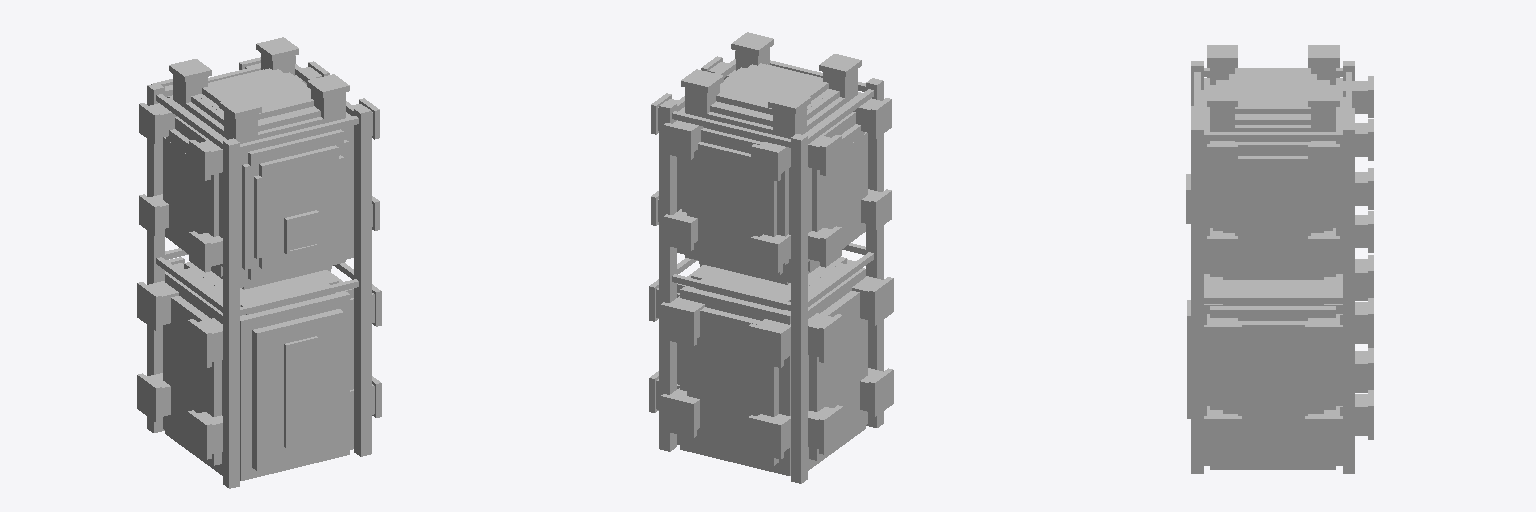
Rendered from steamtank_medium.obj.
3 renders of one model, left to right at view 1: azimuth 30°, elevation 25°; view 2: azimuth 150°, elevation 25°; view 3: azimuth 270°, elevation 25°, orthographic.
Parts seen in each view (by area): view 1: waterTank0, steamTank0, armature1, armature0, waterTank1, waterTank2, steamTank3, steamTank9, armature3, jauge5, steamTank4, steamTank7 (+28 smaller); view 2: waterTank0, steamTank0, armature3, waterTank1, armature2, steamTank3, waterTank2, steamTank9, armature0, waterTank5, steamTank8, steamTank4 (+28 smaller); view 3: waterTank1, steamTank3, armature1, armature2, waterTank3, steamTank9, steamTank7, waterTank5, steamTank5, steamTank2, waterRightWestTop1, waterLeftWestTop1 (+23 smaller).
Part boxes in pixels (bbox=[...]): waterTank0: bbox=[252, 309, 343, 470]; steamTank0: bbox=[259, 145, 338, 268]; armature1: bbox=[354, 106, 371, 456]; armature0: bbox=[223, 138, 239, 488]; waterTank1: bbox=[163, 296, 221, 465]; waterTank2: bbox=[175, 264, 349, 480]; steamTank3: bbox=[163, 137, 218, 236]; steamTank9: bbox=[202, 68, 313, 289]; armature3: bbox=[147, 83, 164, 432]; jauge5: bbox=[288, 340, 316, 445]; steamTank4: bbox=[248, 129, 343, 279]; steamTank7: bbox=[165, 97, 353, 284]; waterTank0: bbox=[687, 307, 778, 465]; steamTank0: bbox=[692, 142, 768, 259]; armature3: bbox=[791, 134, 807, 483]; waterTank1: bbox=[809, 291, 867, 460]; armature2: bbox=[659, 101, 676, 451]; steamTank3: bbox=[812, 132, 867, 231]; waterTank2: bbox=[680, 259, 855, 475]; steamTank9: bbox=[716, 63, 828, 284]; armature0: bbox=[866, 78, 883, 427]; waterTank5: bbox=[696, 257, 846, 309]; steamTank8: bbox=[685, 89, 857, 282]; steamTank4: bbox=[687, 128, 782, 274]; waterTank1: bbox=[1223, 321, 1323, 461]; steamTank3: bbox=[1223, 170, 1323, 250]; armature1: bbox=[1191, 125, 1203, 473]; armature2: bbox=[1343, 125, 1354, 473]; waterTank3: bbox=[1210, 306, 1335, 469]; steamTank9: bbox=[1229, 71, 1316, 113]; steamTank7: bbox=[1204, 78, 1342, 273]; waterTank5: bbox=[1210, 277, 1335, 294]; steamTank5: bbox=[1220, 142, 1326, 270]; steamTank2: bbox=[1238, 156, 1307, 261]; waterRightWestTop1: bbox=[1305, 325, 1342, 361]; waterLeftWestTop1: bbox=[1204, 325, 1241, 361].
Size of the model in its own units: 2 by 4 by 1.87.